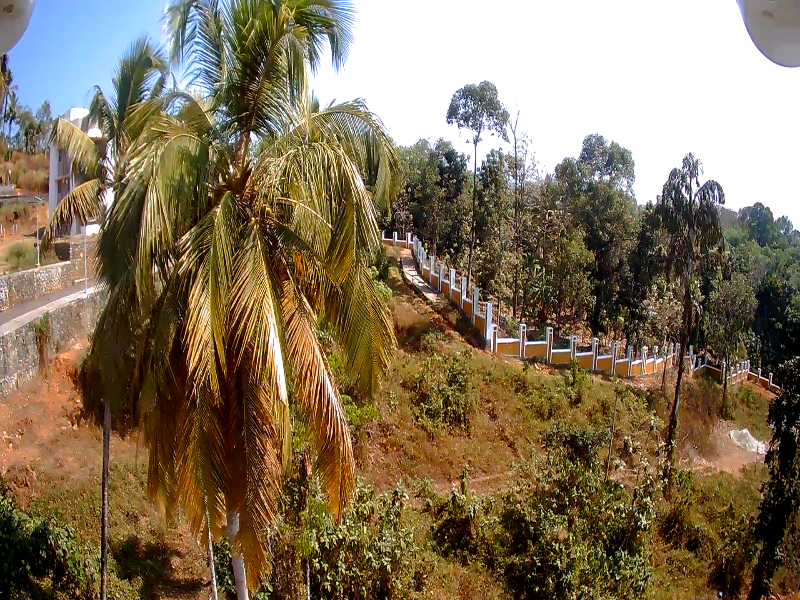coconut: (259, 199, 272, 216)
